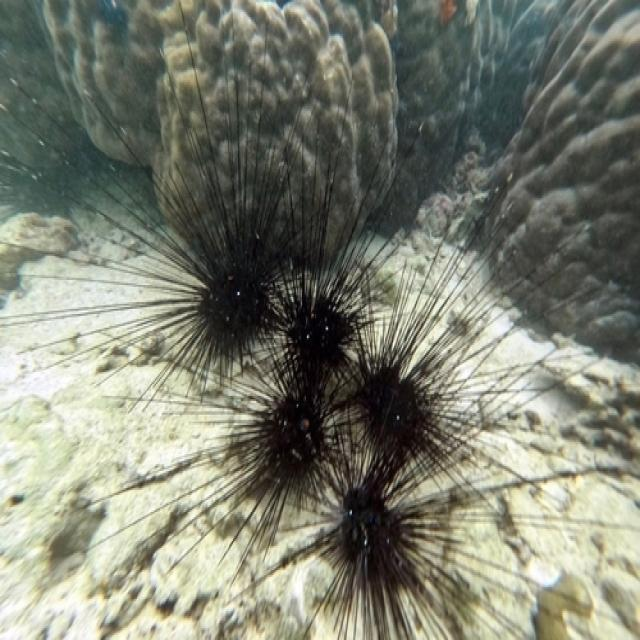Urchin: (13, 3, 287, 391), (220, 418, 625, 640), (343, 181, 586, 469), (82, 337, 346, 586), (261, 80, 399, 394)
